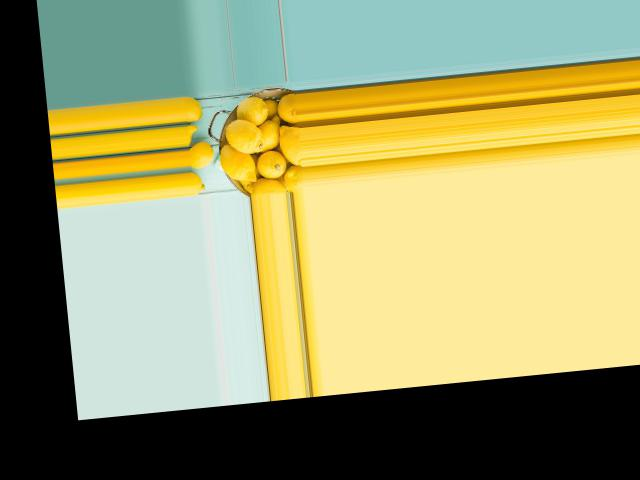lemon: (283, 159, 305, 191)
